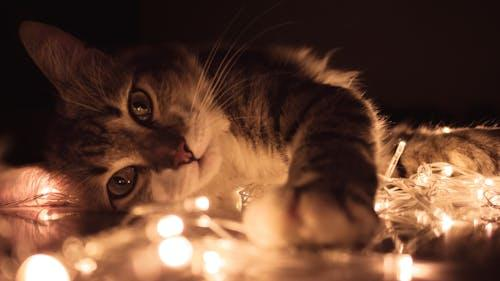kedo: (1, 20, 500, 238)
